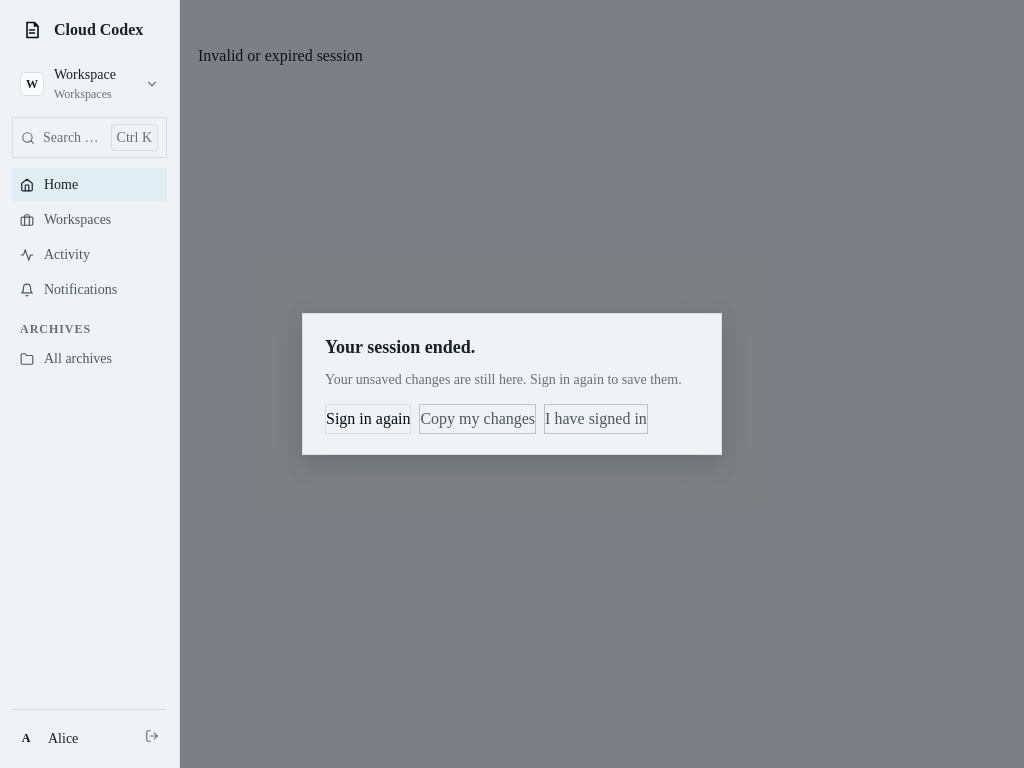
Test: a dead session while the editor holds unsaved changes › after a sign-in in another tab, "I have signed in" clears the notice and the page carries on
Step 1. Click the button "I have signed in" → (596, 419), box [544,404,648,434]
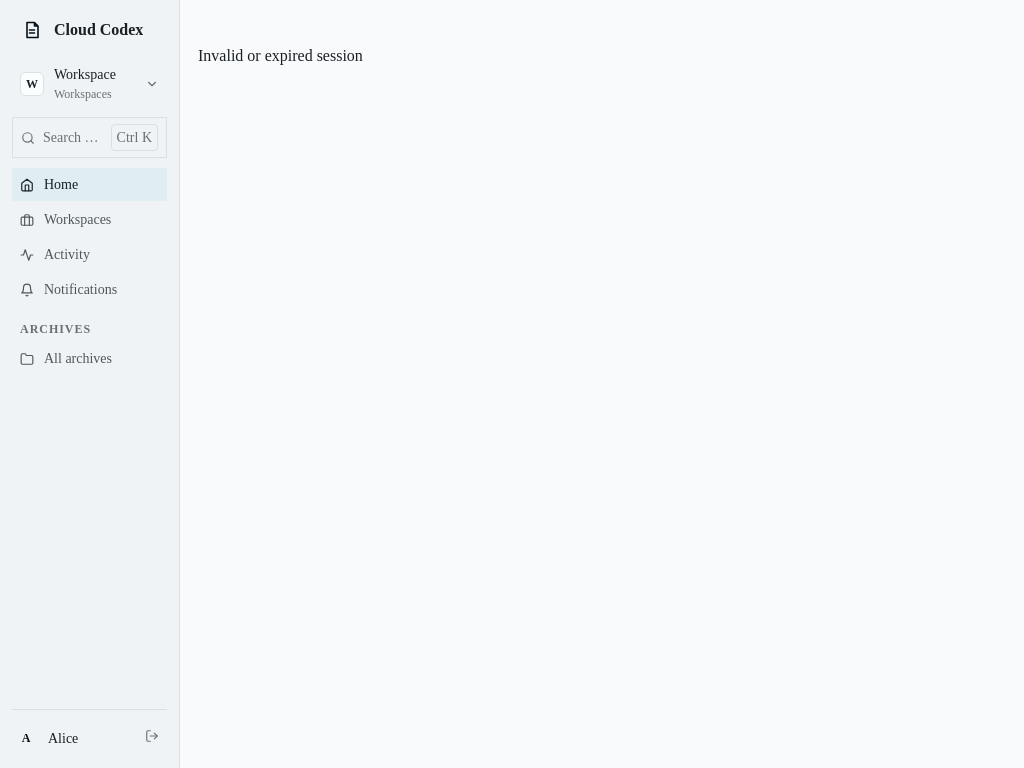
Check: the heading "Your session ended" is gone
